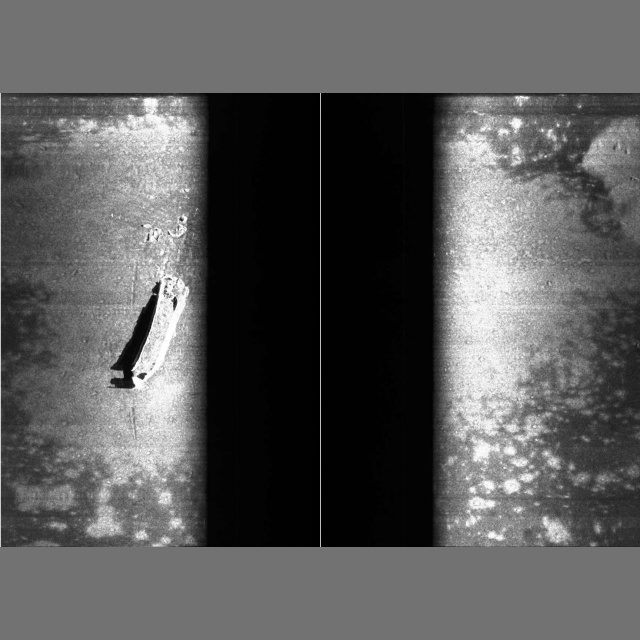Shipwreck: (110, 188, 199, 390)
